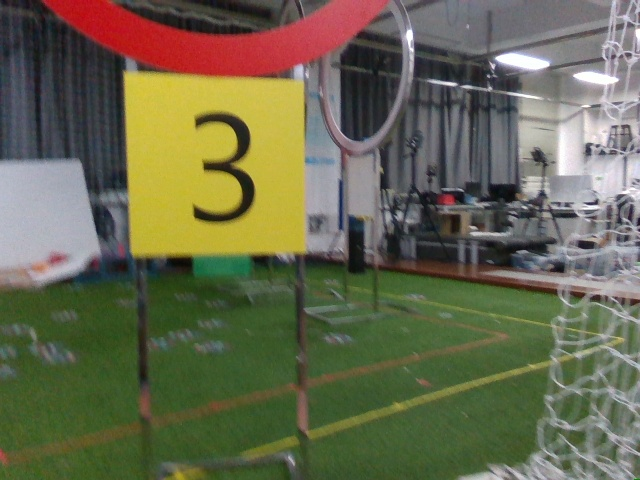target: (126, 79, 296, 255)
